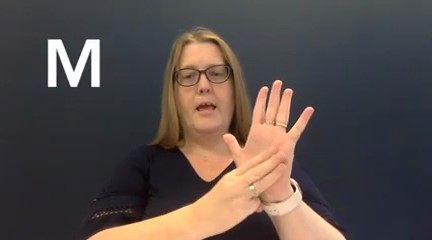M: (210, 74, 327, 235)
